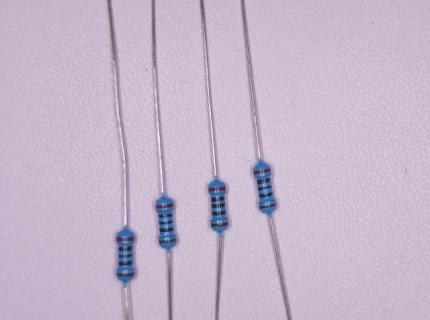Black band: (258, 192, 273, 199), (258, 185, 273, 192), (211, 196, 225, 203), (257, 178, 271, 185), (118, 246, 133, 252), (159, 227, 174, 233), (211, 203, 226, 209), (118, 261, 134, 266), (159, 220, 174, 225), (212, 211, 226, 216), (118, 254, 134, 258), (158, 214, 173, 218)
Brown band: (159, 238, 177, 244), (211, 222, 229, 228), (259, 203, 277, 209), (117, 273, 135, 277)
Red band: (253, 168, 272, 175), (155, 203, 174, 209), (208, 186, 226, 192), (116, 237, 135, 242)
